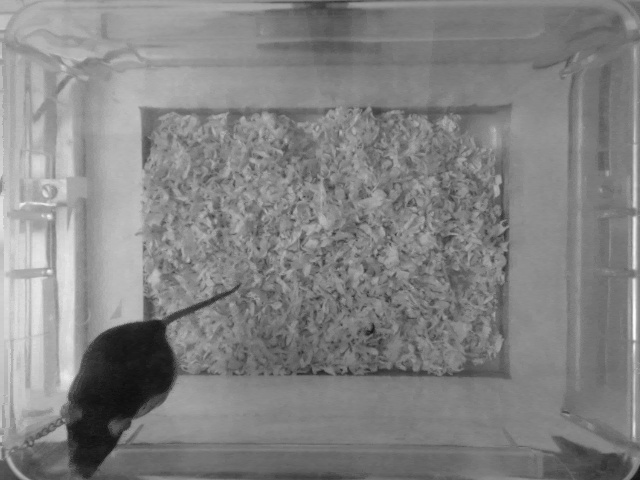mice: (65, 281, 241, 476)
